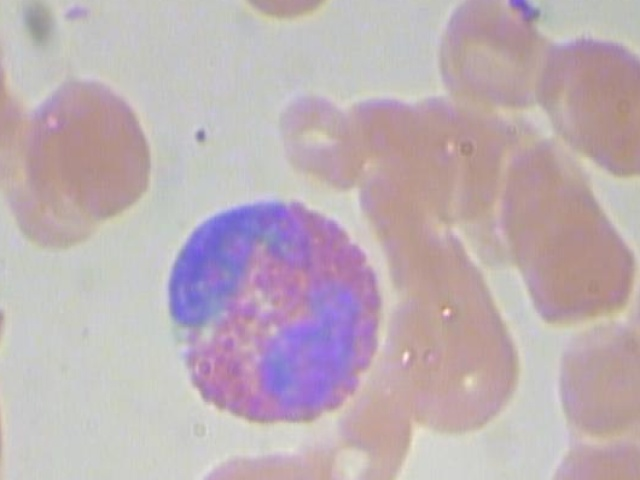Platelets: (506, 0, 548, 24)
RBC: (378, 291, 528, 439), (19, 76, 160, 220), (543, 319, 640, 440), (277, 86, 360, 190), (571, 54, 640, 176), (536, 435, 640, 480), (184, 448, 292, 480), (233, 0, 340, 31)
WBC: (147, 182, 395, 439)
